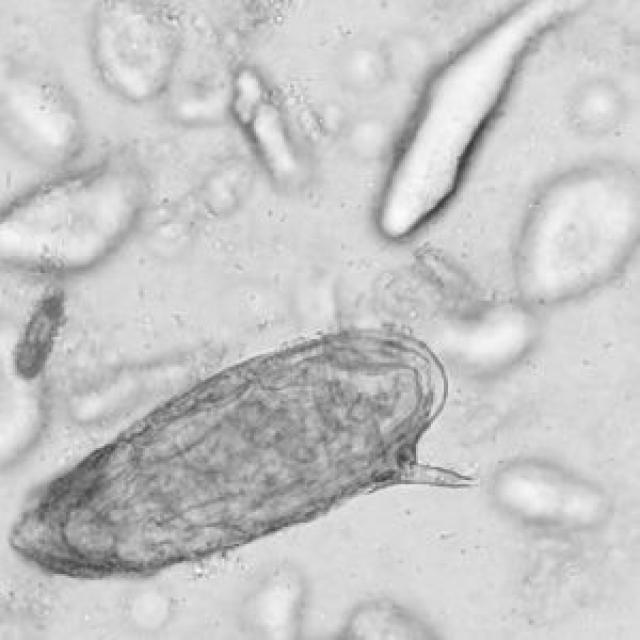Schistosoma: (7, 313, 482, 582)
